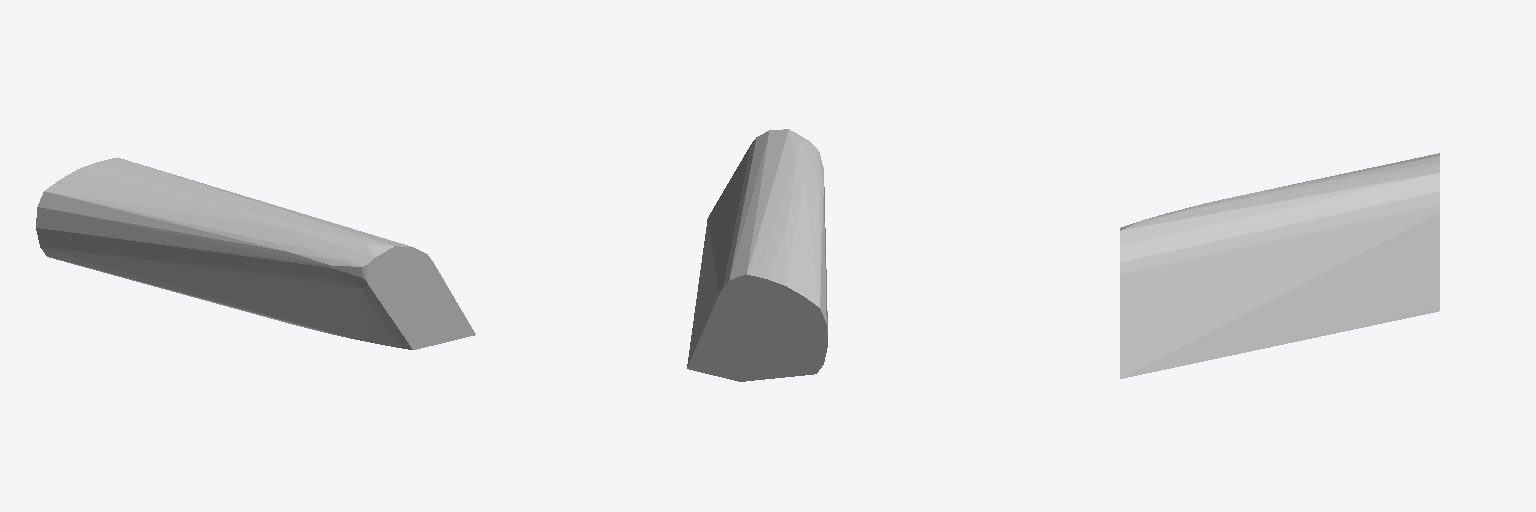
File: skillet_collision_0.obj
3 views of the same model, side by side, from view 1: azimuth 30°, elevation 25°; view 2: azimuth 150°, elevation 25°; view 3: azimuth 270°, elevation 25° (orthographic).
Bounding box in the file's own units: 0.0462 × 0.0173 × 0.0457.